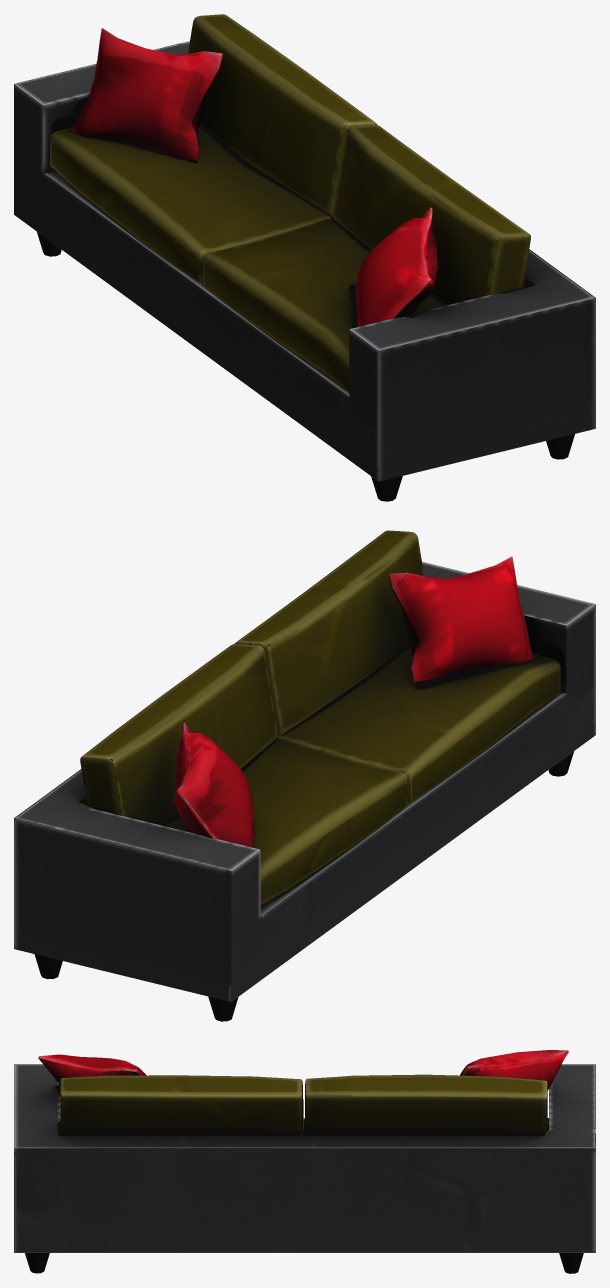
The model's file is RE_RLivingCouch.FBX.
3 views of the same model, one above another, from view 1: azimuth 30°, elevation 25°; view 2: azimuth 150°, elevation 25°; view 3: azimuth 270°, elevation 25° (orthographic). The views are drawn at different scales.
Parts seen in each view (by area): view 1: RE_RLivingCouch; view 2: RE_RLivingCouch; view 3: RE_RLivingCouch.
Part boxes in pixels (bbox=[...]): RE_RLivingCouch: bbox=[14, 14, 595, 501]; RE_RLivingCouch: bbox=[14, 530, 595, 1021]; RE_RLivingCouch: bbox=[14, 1050, 595, 1273].
Bounding box in the file's own units: 62.39 × 60.94 × 181.
Materials: 3 (3 with a texture image).
